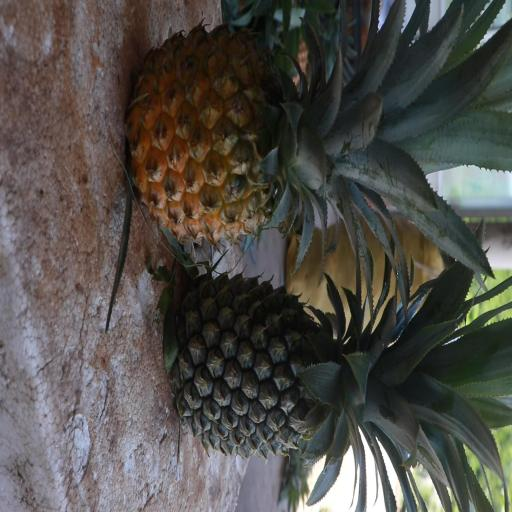Pineapple - v8 v1: (133, 34, 460, 240)
